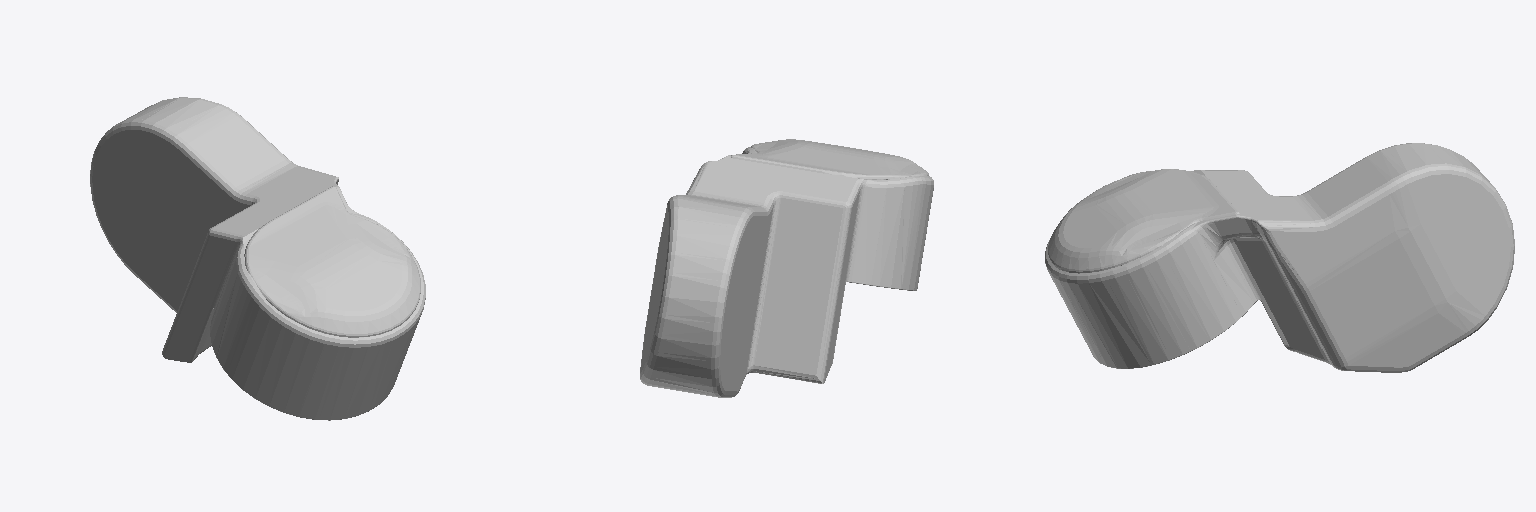
File: arm_right_1.obj
The picture shows the model from 3 angles: view 1: azimuth 30°, elevation 25°; view 2: azimuth 150°, elevation 25°; view 3: azimuth 270°, elevation 25°; orthographic projection.
Visible parts, largest first — view 1: arm_right_1; view 2: arm_right_1; view 3: arm_right_1.
Part boxes in pixels (left/top/right/bottom): arm_right_1: left=90, top=97, right=425, bottom=420; arm_right_1: left=640, top=139, right=933, bottom=397; arm_right_1: left=1045, top=143, right=1514, bottom=372.
Bounding box in the file's own units: 0.1069 × 0.1166 × 0.251.